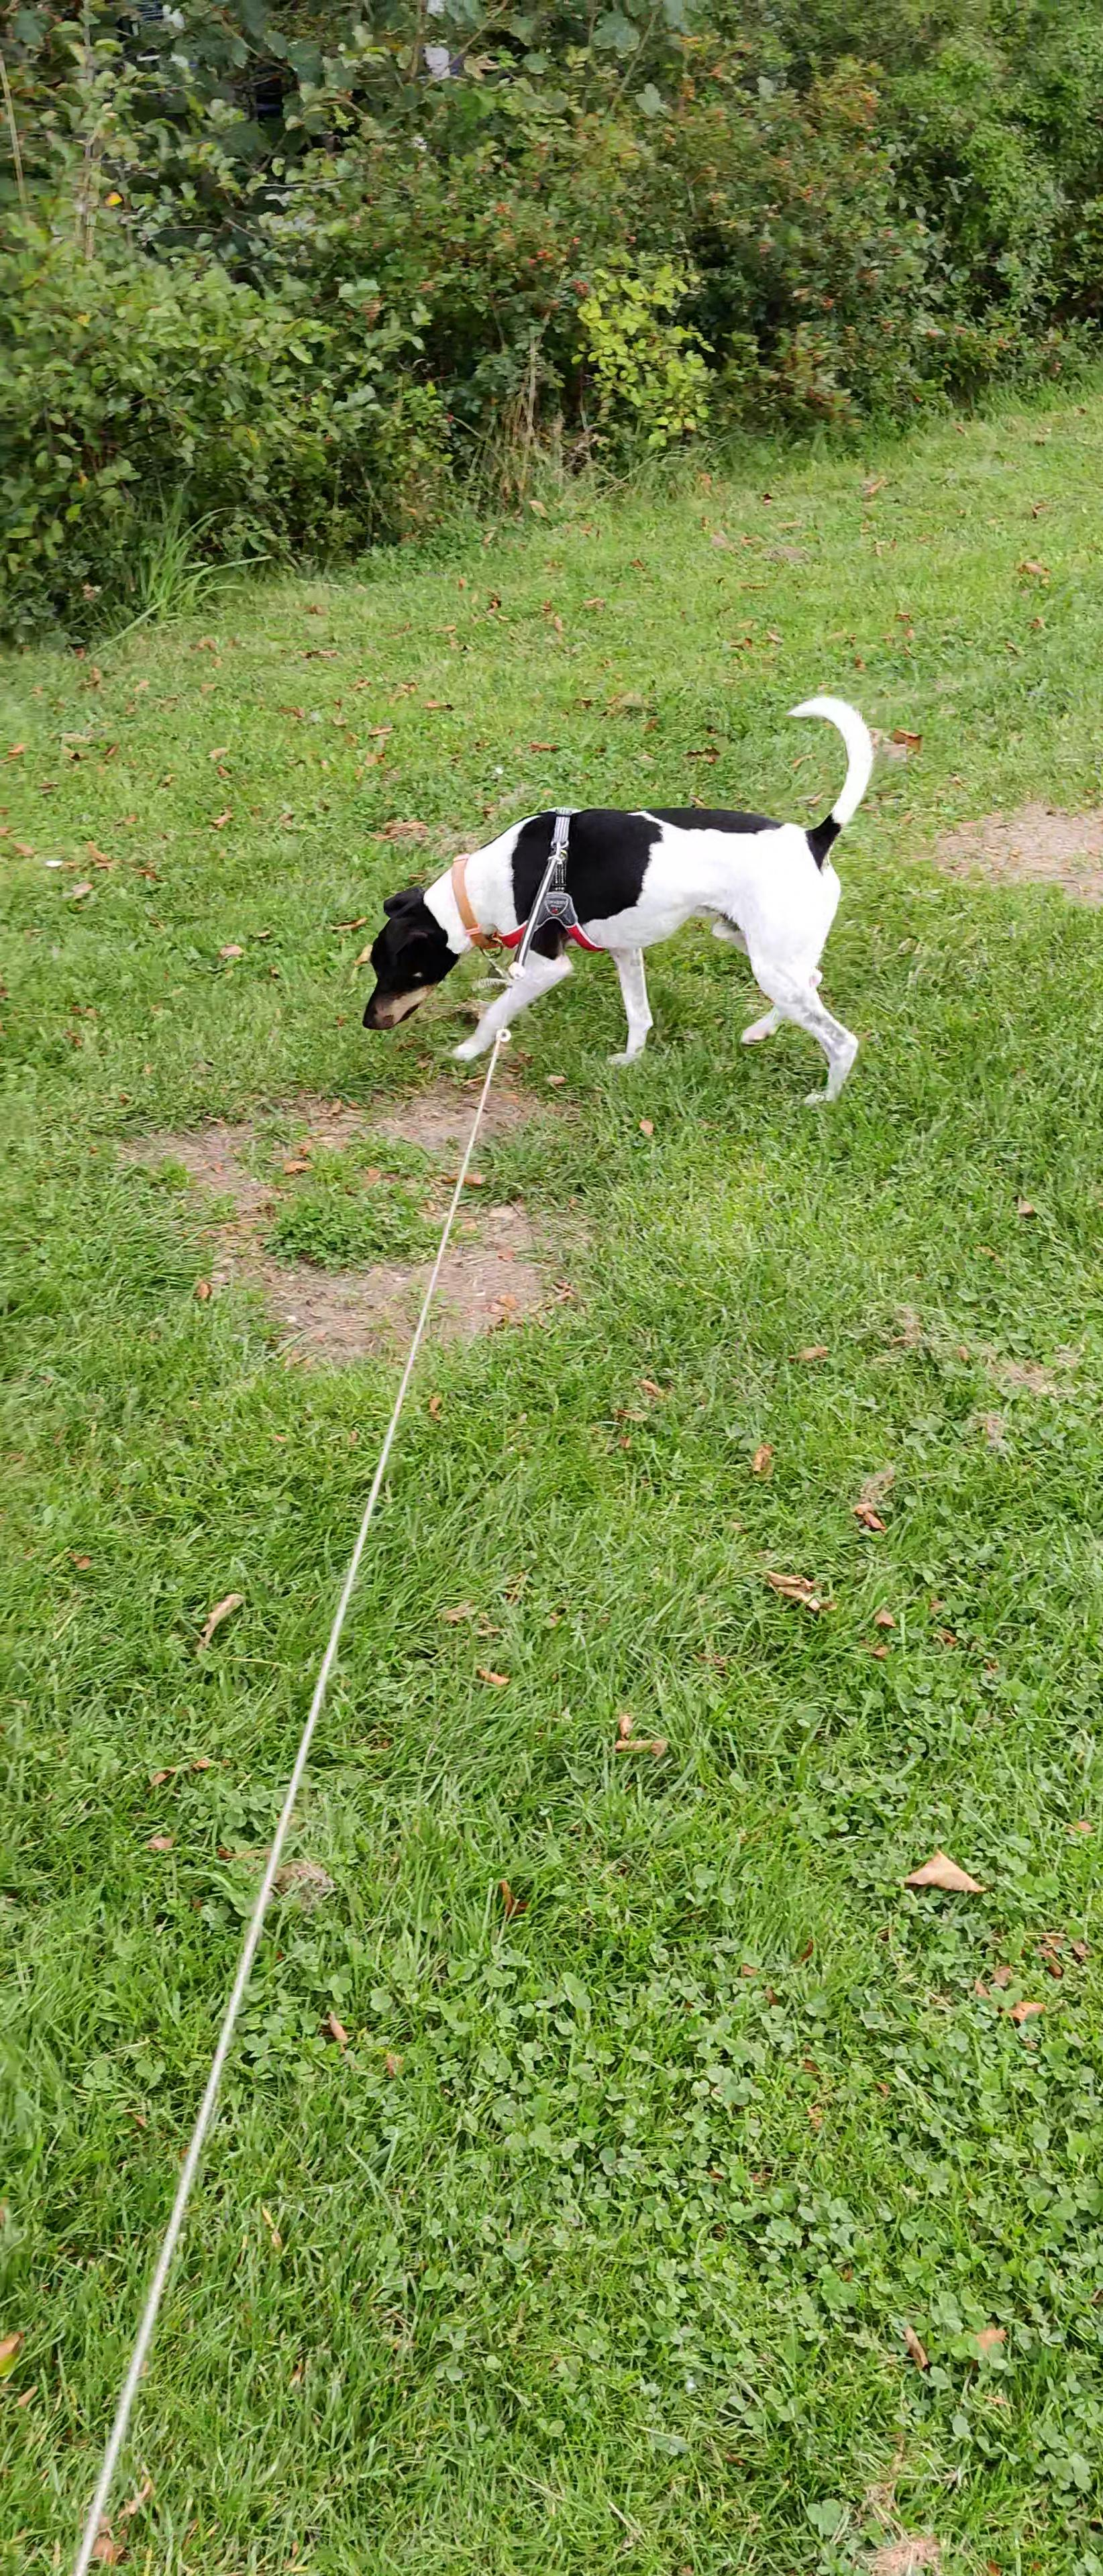Dog: (337, 687, 909, 1117)
